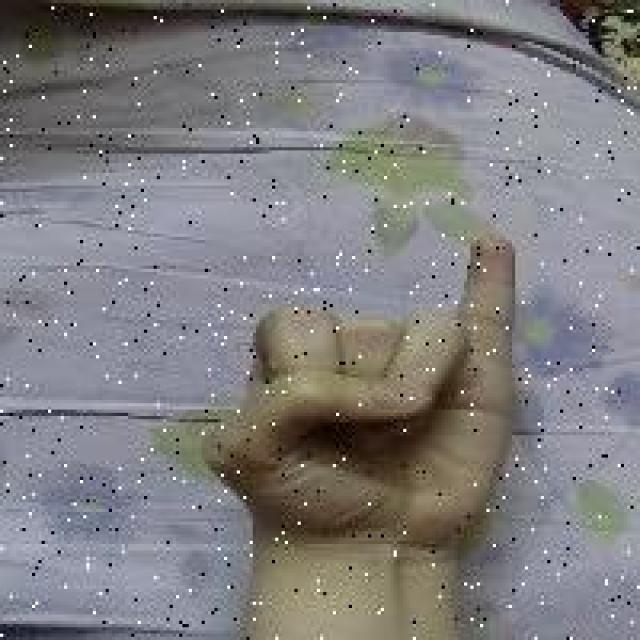I: (194, 232, 526, 552)
